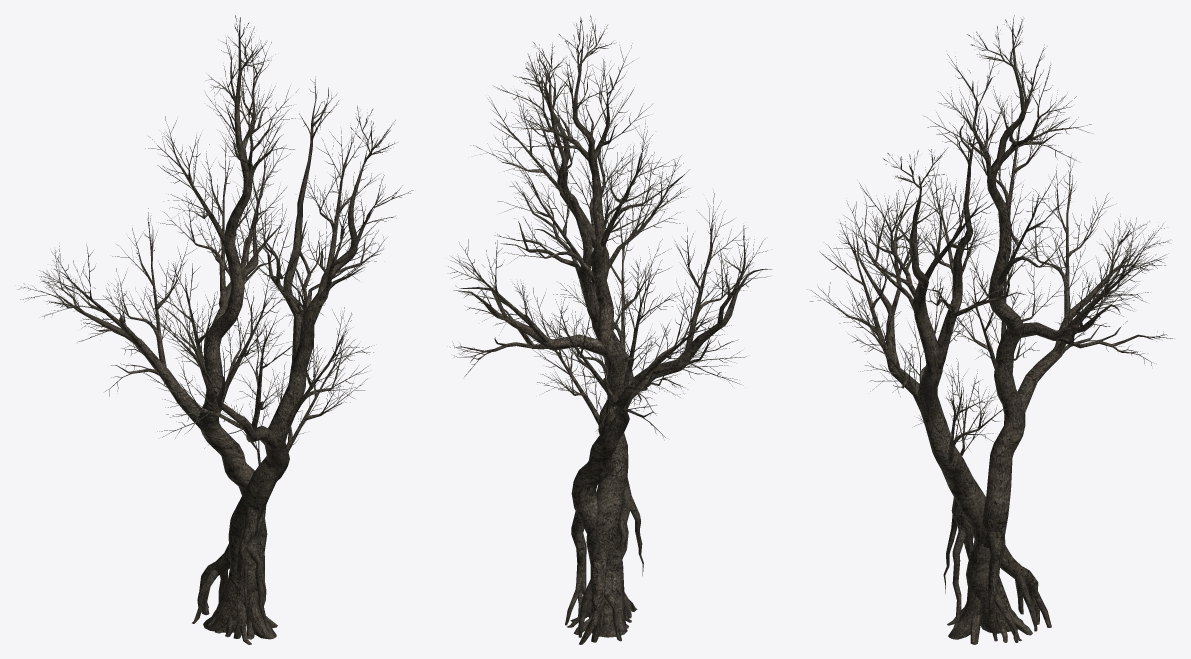
The model's file is tree-dead-snag.glb.
The picture shows the model from 3 angles, left to right: view 1: azimuth 30°, elevation 25°; view 2: azimuth 150°, elevation 25°; view 3: azimuth 270°, elevation 25°; orthographic projection. The views are drawn at different scales.
Parts seen in each view (by area): view 1: Dead_tree_Mat.1_0 (×2); view 2: Dead_tree_Mat.1_0 (×2); view 3: Dead_tree_Mat.1_0 (×2).
Boxes of the visible parts, box(x1,y1,x2,y2) form: Dead_tree_Mat.1_0 (×2): box(18, 15, 413, 644); Dead_tree_Mat.1_0 (×2): box(448, 15, 771, 644); Dead_tree_Mat.1_0 (×2): box(810, 15, 1174, 644).
Bounding box in the file's own units: 23.98 × 46.76 × 25.47.
1 material, 1 textured.
